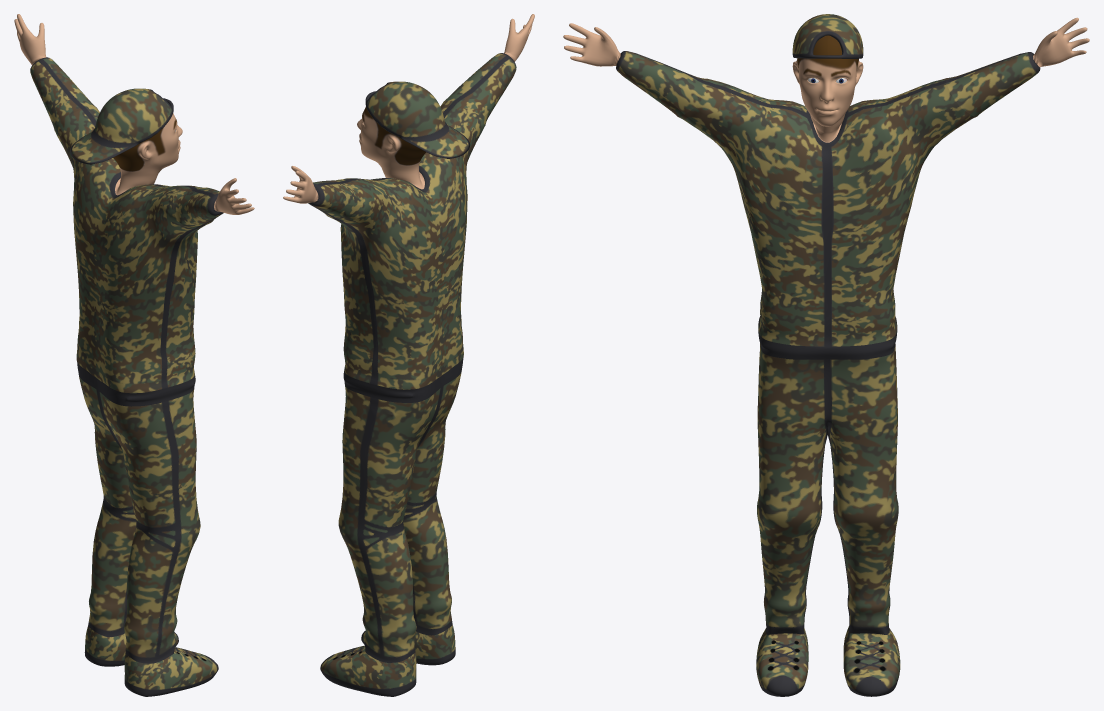
Rendered from SkinCamuflaje_PoseMeta.fbx.
The picture shows the model from 3 angles, left to right: view 1: azimuth 30°, elevation 25°; view 2: azimuth 150°, elevation 25°; view 3: azimuth 270°, elevation 25°; orthographic projection. The views are drawn at different scales.
Visible parts, largest first — view 1: Cuerpo completo smooth.003; view 2: Cuerpo completo smooth.003; view 3: Cuerpo completo smooth.003.
Boxes of the visible parts, <box> form: Cuerpo completo smooth.003: <box>14,14,254,696</box>; Cuerpo completo smooth.003: <box>283,14,534,696</box>; Cuerpo completo smooth.003: <box>563,14,1089,696</box>.
Bounding box in the file's own units: 36.69 × 169 × 124.
1 material, 1 textured.
